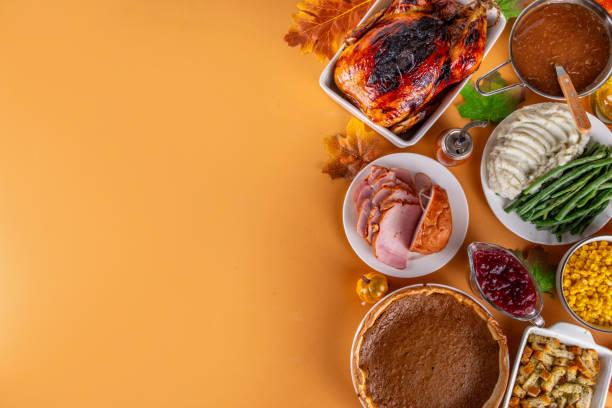Braised Crucian Carp: (317, 1, 505, 150), (479, 104, 610, 245), (342, 152, 470, 277), (473, 0, 610, 106)
